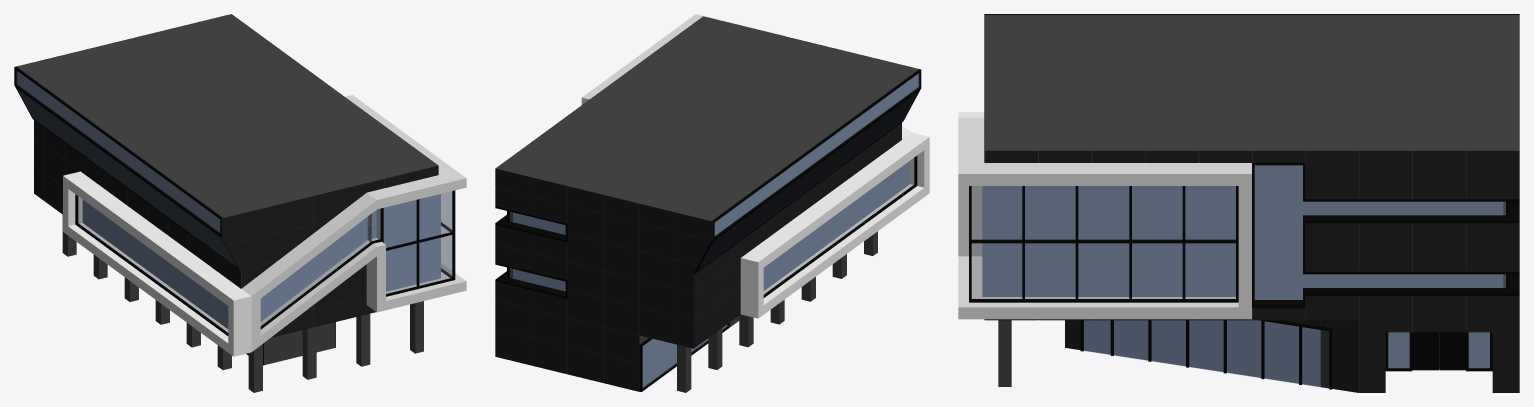
Rendered from building-office.glb.
3 renders of one model, left to right at view 1: azimuth 30°, elevation 25°; view 2: azimuth 150°, elevation 25°; view 3: azimuth 270°, elevation 25°, orthographic. The views are drawn at different scales.
Visible parts, largest first — view 1: Object_4, Object_14, Object_13, Object_23; view 2: Object_4, Object_14, Object_23, Object_13; view 3: Object_4, Object_14, Object_13.
Boxes of the visible parts, box(x1,y1,x2,y2) form: Object_4: box(14, 14, 466, 392); Object_14: box(16, 70, 452, 331); Object_13: box(17, 71, 440, 328); Object_23: box(63, 171, 251, 356); Object_4: box(495, 14, 921, 392); Object_14: box(510, 73, 919, 388); Object_23: box(740, 132, 929, 318); Object_13: box(513, 73, 918, 387); Object_4: box(958, 14, 1519, 392); Object_14: box(972, 165, 1505, 388); Object_13: box(982, 165, 1503, 386).
Size of what is drawn, in the model's own units: 13.1 by 10 by 21.02.
Materials: 4 (4 with a texture image).
